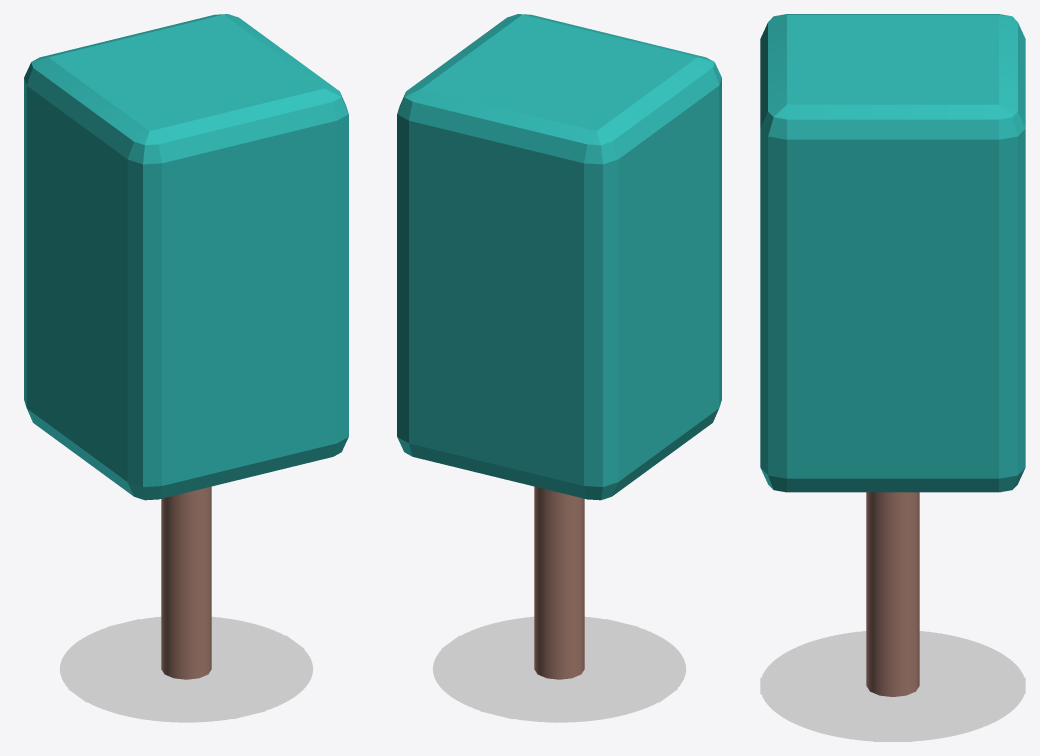
File: tree1.glb
The picture shows the model from 3 angles, left to right: view 1: azimuth 30°, elevation 25°; view 2: azimuth 150°, elevation 25°; view 3: azimuth 270°, elevation 25°; orthographic projection. The views are drawn at different scales.
Visible parts, largest first — view 1: leaves, shadow, trunk; view 2: leaves, shadow, trunk; view 3: leaves, shadow, trunk.
Boxes of the visible parts, bbox=[...] form: leaves: bbox=[24, 14, 348, 500]; shadow: bbox=[59, 616, 313, 722]; trunk: bbox=[161, 486, 211, 679]; leaves: bbox=[397, 14, 721, 500]; shadow: bbox=[432, 616, 686, 722]; trunk: bbox=[534, 486, 584, 679]; leaves: bbox=[760, 14, 1025, 492]; shadow: bbox=[760, 631, 1025, 741]; trunk: bbox=[866, 492, 919, 696].
Bounding box in the file's own units: 1 × 2.6 × 1.
Materials: 3 (1 with a texture image).
